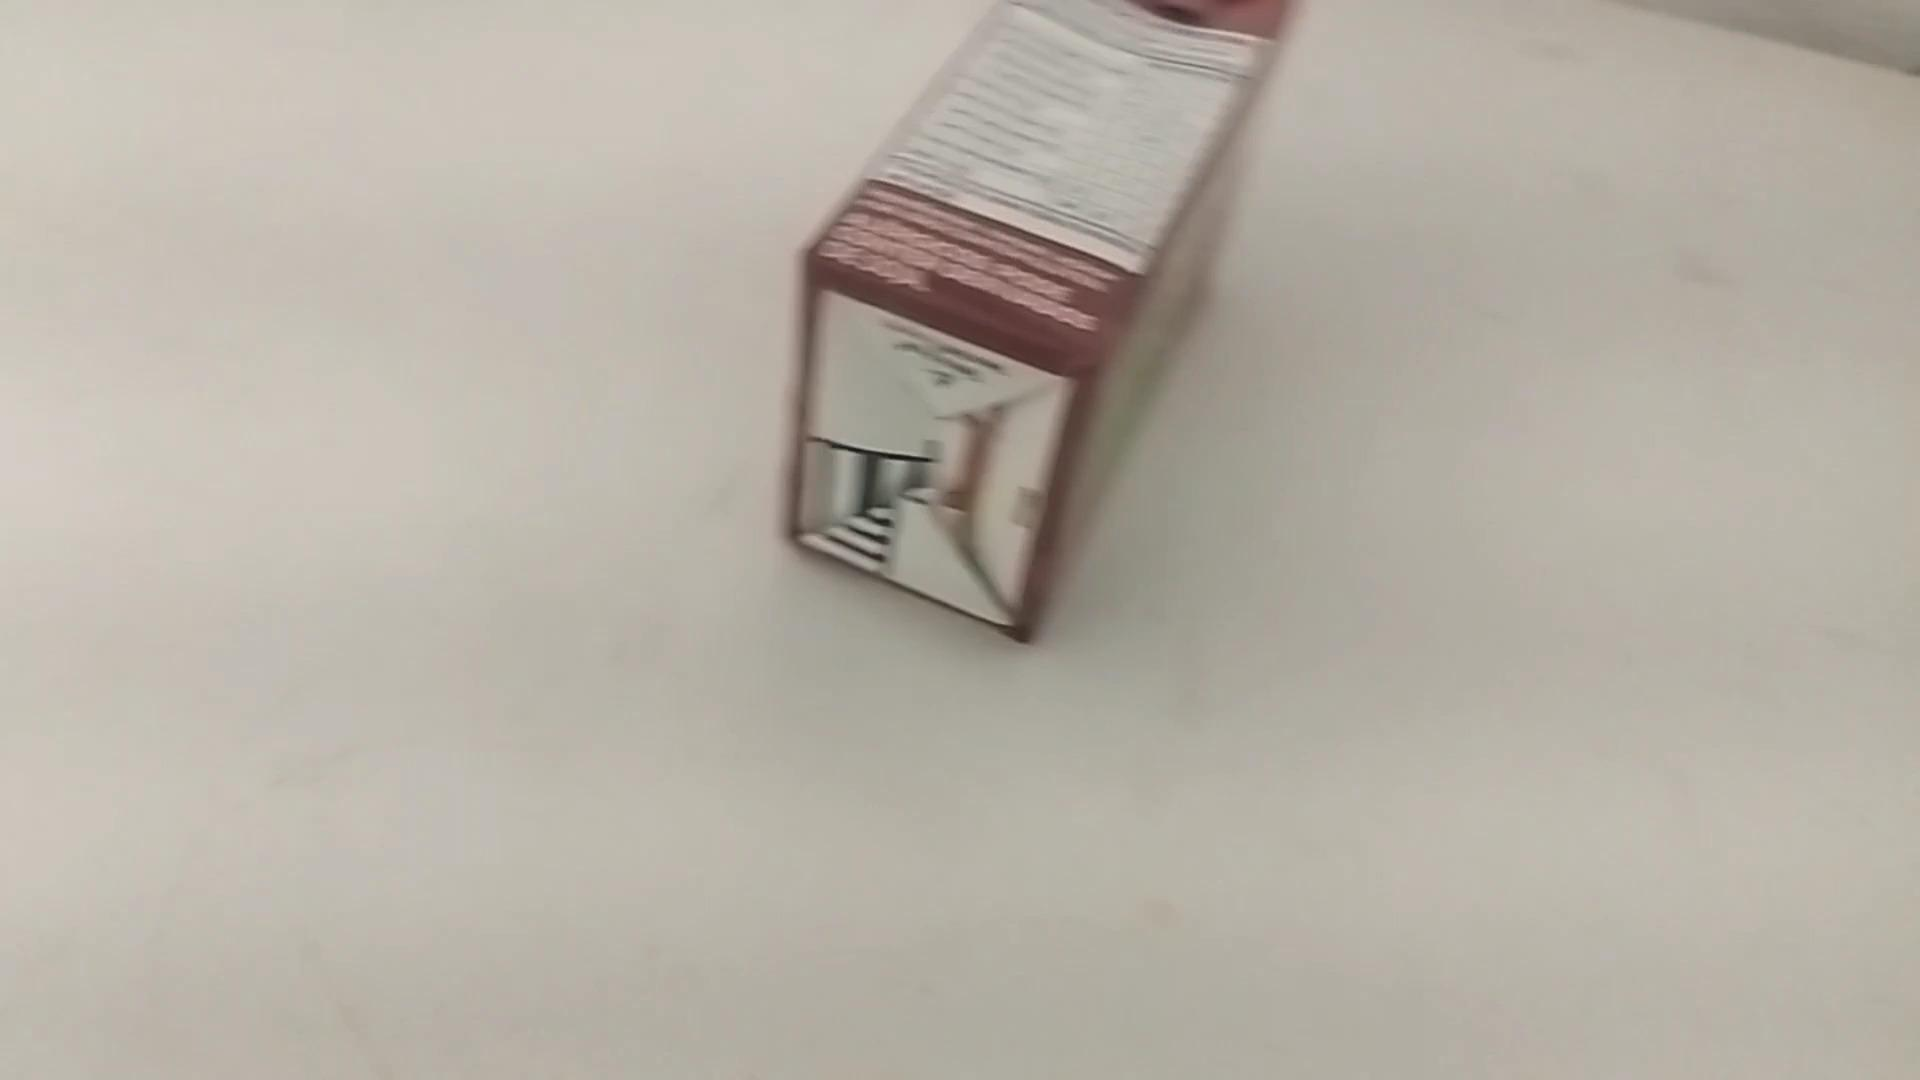tomate: (789, 0, 1298, 649)
